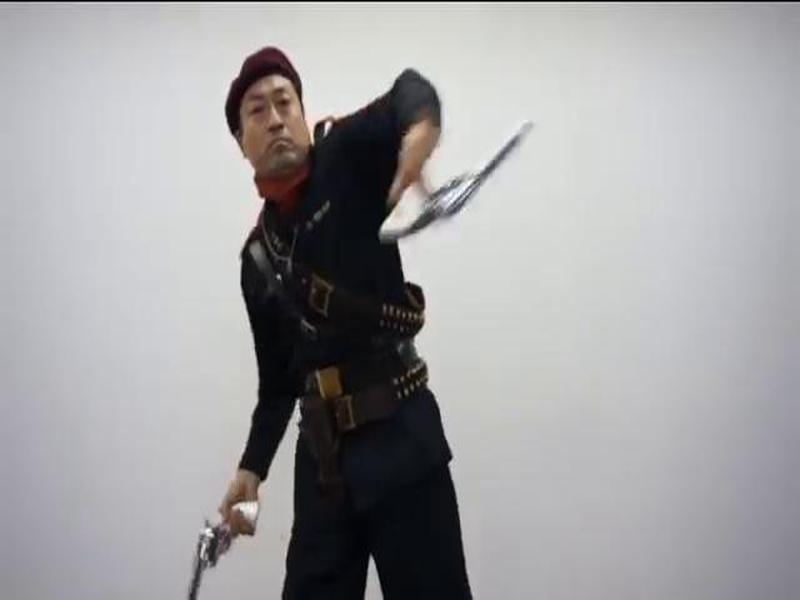Revolver: (176, 490, 267, 600)
